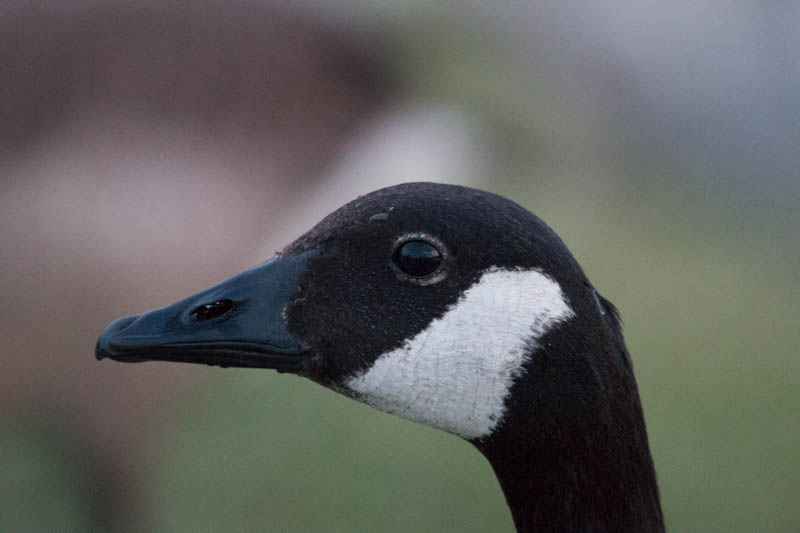goose-head: (95, 182, 609, 443)
